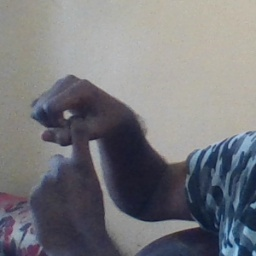Q: (24, 70, 120, 220)
